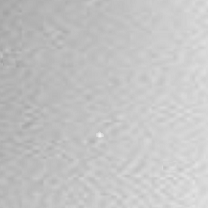Target: (96, 132, 104, 138)
